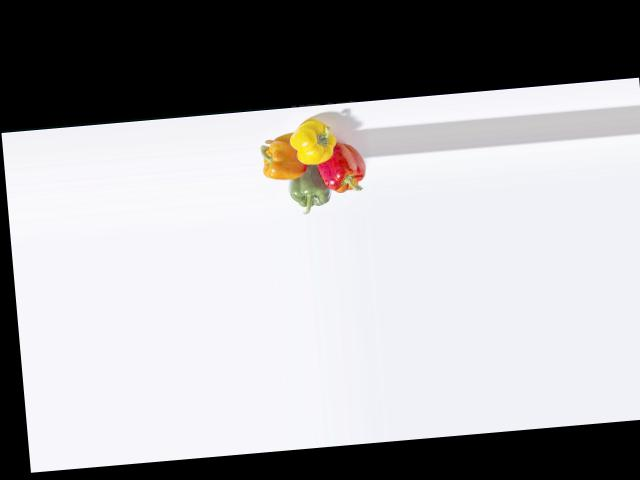bell_pepper: (316, 140, 369, 199)
